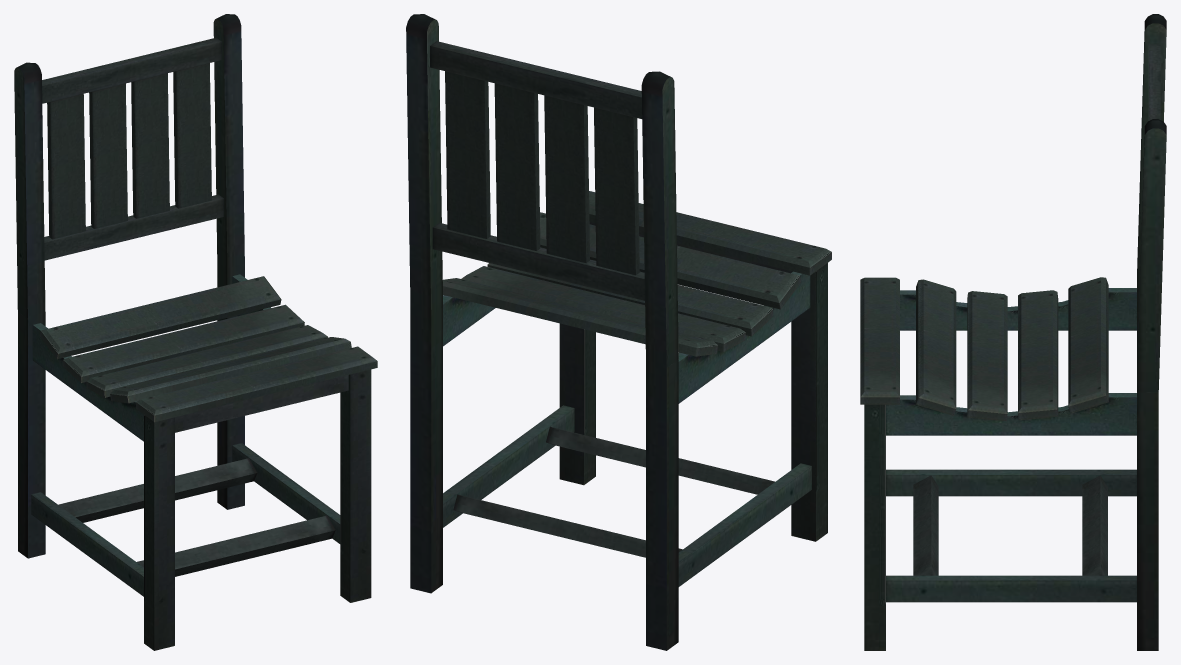
The model's file is chair.dae.
3 renders of one model, left to right at view 1: azimuth 30°, elevation 25°; view 2: azimuth 150°, elevation 25°; view 3: azimuth 270°, elevation 25°, orthographic. The views are drawn at different scales.
Parts seen in each view (by area): view 1: Component_2 (×11), Component_1 (×5), Component_5 (×4), Component_4 (×2), Component_3 (×2), Component_6; view 2: Component_2 (×12), Component_5 (×4), Component_1 (×5), Component_4 (×2), Component_3 (×2); view 3: Component_2 (×7), Component_1 (×5), Component_3 (×2), Component_4.
Part boxes in pixels (x1=…): Component_2 (×11): x1=14, y1=14, x2=371, y2=650; Component_1 (×5): x1=39, y1=276, x2=377, y2=422; Component_5 (×4): x1=47, y1=63, x2=211, y2=239; Component_4 (×2): x1=42, y1=37, x2=223, y2=260; Component_3 (×2): x1=58, y1=458, x2=335, y2=576; Component_6: x1=175, y1=375, x2=348, y2=432; Component_2 (×12): x1=406, y1=14, x2=827, y2=650; Component_5 (×4): x1=445, y1=71, x2=639, y2=275; Component_1 (×5): x1=442, y1=191, x2=831, y2=356; Component_4 (×2): x1=430, y1=41, x2=644, y2=300; Component_3 (×2): x1=453, y1=426, x2=774, y2=557; Component_2 (×7): x1=864, y1=23, x2=1166, y2=650; Component_1 (×5): x1=860, y1=277, x2=1108, y2=421; Component_3 (×2): x1=913, y1=475, x2=1107, y2=575; Component_4: x1=1148, y1=44, x2=1160, y2=120.
Bounding box in the file's own units: 17.5 × 19.25 × 36.4.
13 materials, 13 textured.
